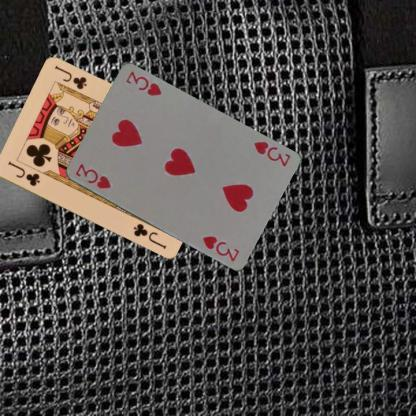3h: (72, 161, 115, 191), (251, 139, 292, 168)
Jc: (5, 159, 41, 188)
